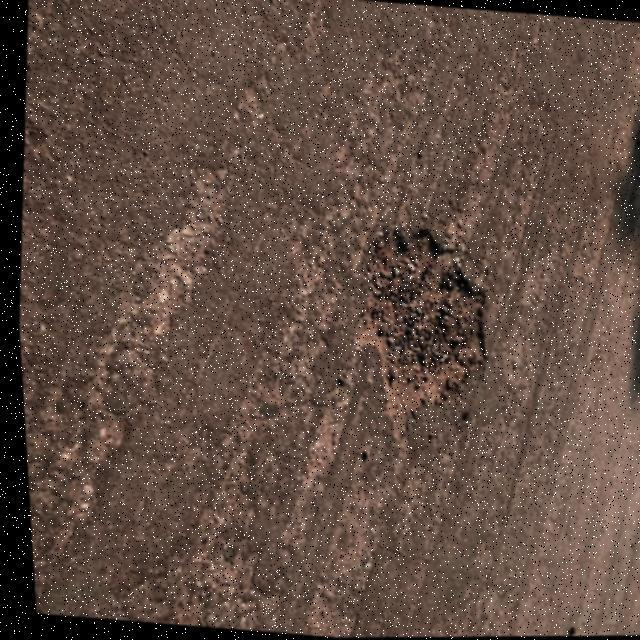pothole: (327, 208, 509, 453)
